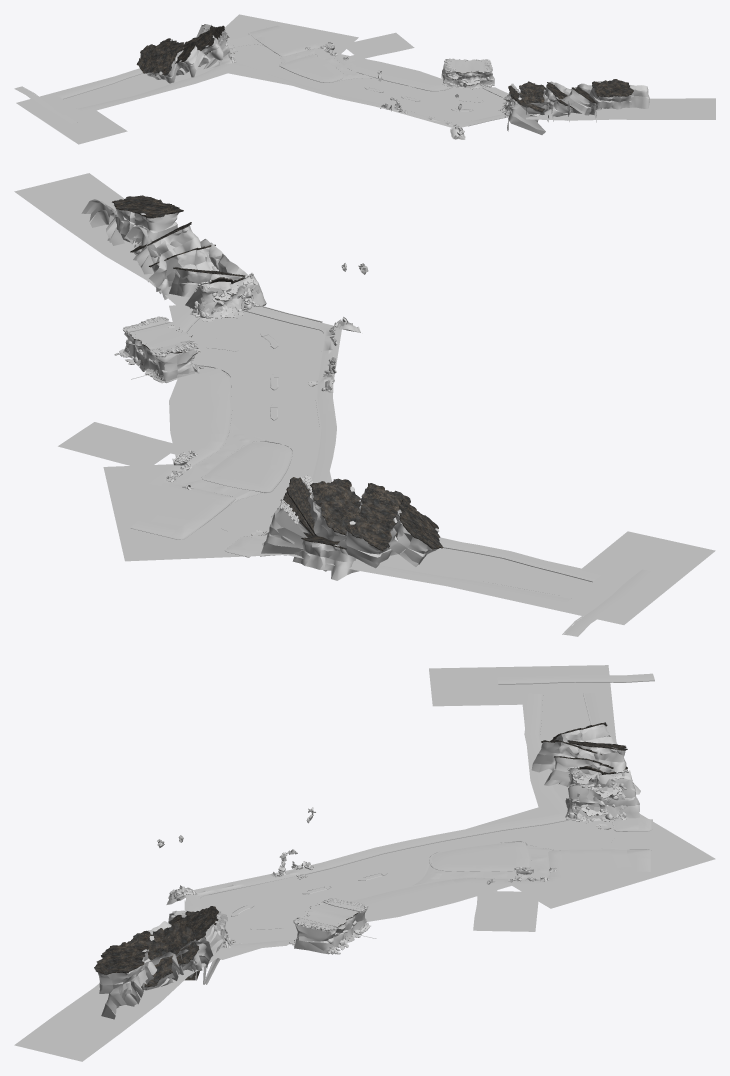
Rendered from Street3.fbx.
The picture shows the model from 3 angles, top to bottom: view 1: azimuth 30°, elevation 25°; view 2: azimuth 150°, elevation 25°; view 3: azimuth 270°, elevation 25°; orthographic projection. The views are drawn at different scales.
Visible parts, largest first — view 1: LODGroup_1_MainMesh_1_SubMesh_5, LODGroup_1_MainMesh_1_SubMesh_3, LODGroup_1_MainMesh_1_SubMesh_12, LODGroup_1_MainMesh_1_SubMesh_7, LODGroup_1_MainMesh_1_SubMesh_11, LODGroup_1_MainMesh_1_SubMesh_9, LODGroup_1_MainMesh_1_SubMesh_2, LODGroup_1_MainMesh_1_SubMesh_4, LODGroup_1_MainMesh_1_SubMesh_8; view 2: LODGroup_1_MainMesh_1_SubMesh_5, LODGroup_1_MainMesh_1_SubMesh_3, LODGroup_1_MainMesh_1_SubMesh_12, LODGroup_1_MainMesh_1_SubMesh_7, LODGroup_1_MainMesh_1_SubMesh_11, LODGroup_1_MainMesh_1_SubMesh_9, LODGroup_1_MainMesh_1_SubMesh_2, LODGroup_1_MainMesh_1_SubMesh_4; view 3: LODGroup_1_MainMesh_1_SubMesh_5, LODGroup_1_MainMesh_1_SubMesh_3, LODGroup_1_MainMesh_1_SubMesh_12, LODGroup_1_MainMesh_1_SubMesh_7, LODGroup_1_MainMesh_1_SubMesh_11, LODGroup_1_MainMesh_1_SubMesh_9, LODGroup_1_MainMesh_1_SubMesh_2, LODGroup_1_MainMesh_1_SubMesh_4, LODGroup_1_MainMesh_1_SubMesh_6.
Boxes of the visible parts, x1,y1,x2,y2 form: LODGroup_1_MainMesh_1_SubMesh_5: [16, 14, 715, 144]; LODGroup_1_MainMesh_1_SubMesh_3: [14, 24, 515, 127]; LODGroup_1_MainMesh_1_SubMesh_12: [142, 25, 649, 134]; LODGroup_1_MainMesh_1_SubMesh_7: [136, 25, 633, 122]; LODGroup_1_MainMesh_1_SubMesh_11: [227, 34, 482, 111]; LODGroup_1_MainMesh_1_SubMesh_9: [230, 47, 505, 123]; LODGroup_1_MainMesh_1_SubMesh_2: [226, 33, 519, 136]; LODGroup_1_MainMesh_1_SubMesh_4: [451, 59, 511, 99]; LODGroup_1_MainMesh_1_SubMesh_8: [307, 42, 491, 139]; LODGroup_1_MainMesh_1_SubMesh_5: [14, 173, 715, 624]; LODGroup_1_MainMesh_1_SubMesh_3: [58, 275, 655, 636]; LODGroup_1_MainMesh_1_SubMesh_12: [81, 199, 437, 580]; LODGroup_1_MainMesh_1_SubMesh_7: [112, 195, 443, 551]; LODGroup_1_MainMesh_1_SubMesh_11: [176, 334, 277, 545]; LODGroup_1_MainMesh_1_SubMesh_9: [129, 310, 322, 538]; LODGroup_1_MainMesh_1_SubMesh_2: [123, 273, 351, 489]; LODGroup_1_MainMesh_1_SubMesh_4: [133, 284, 238, 364]; LODGroup_1_MainMesh_1_SubMesh_5: [14, 665, 715, 1061]; LODGroup_1_MainMesh_1_SubMesh_3: [171, 673, 654, 954]; LODGroup_1_MainMesh_1_SubMesh_12: [97, 724, 640, 1019]; LODGroup_1_MainMesh_1_SubMesh_7: [94, 722, 627, 987]; LODGroup_1_MainMesh_1_SubMesh_11: [232, 831, 642, 928]; LODGroup_1_MainMesh_1_SubMesh_9: [200, 819, 613, 943]; LODGroup_1_MainMesh_1_SubMesh_2: [168, 773, 589, 947]; LODGroup_1_MainMesh_1_SubMesh_4: [303, 772, 621, 924]; LODGroup_1_MainMesh_1_SubMesh_6: [175, 774, 625, 948].
Bounding box in the file's own units: 8237 × 872 × 6146.
